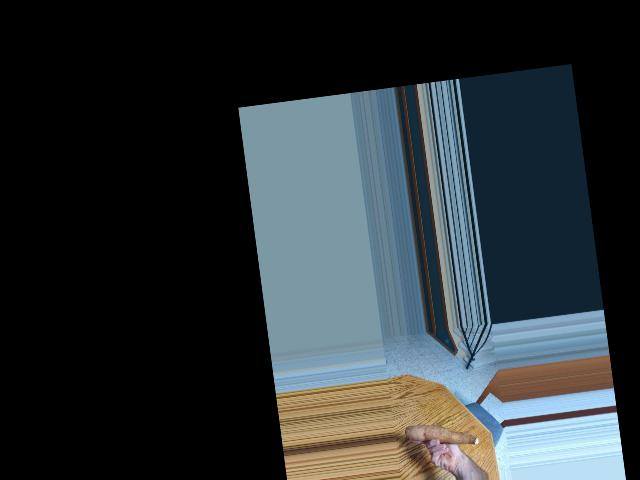sweet_potato: (405, 414, 480, 456)
